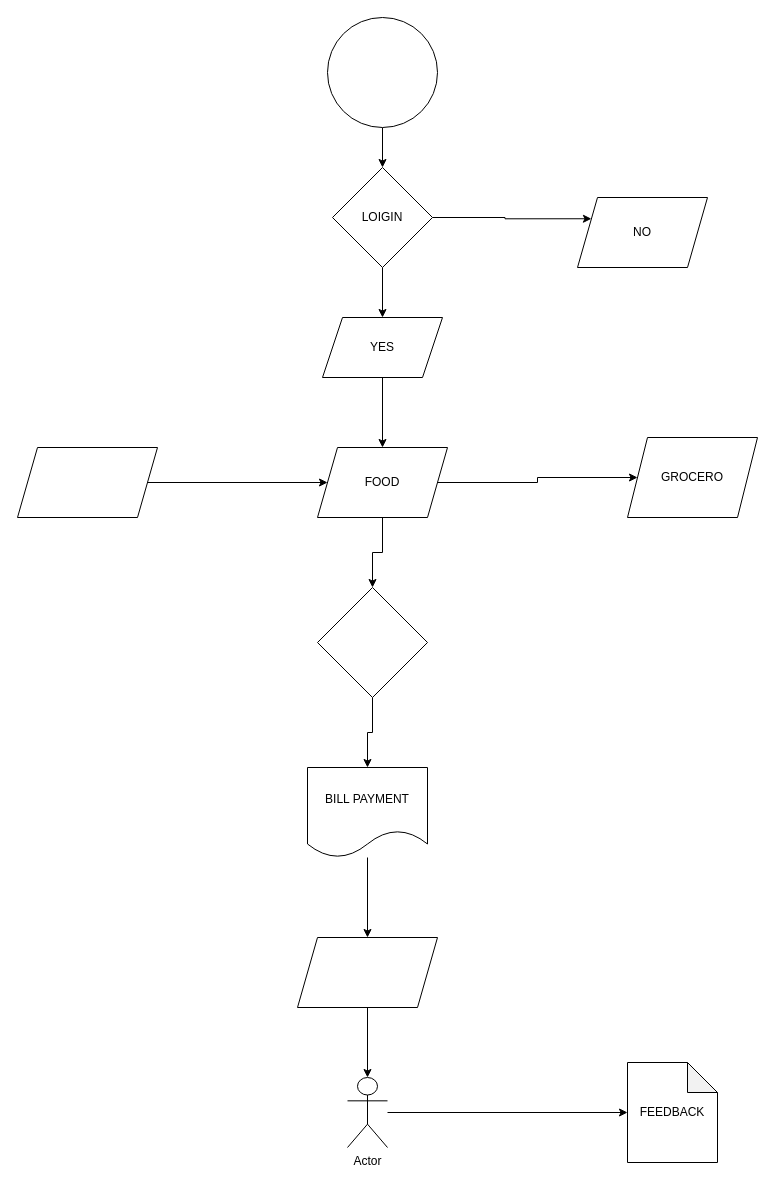
This 775x1186 diagram has some shape labels left out. The shapes that lost their labels are listed below. From the top down, each one's box as (x1, y1, x2, y2) in pixels, then its label:
(326, 16, 438, 128): START
(16, 446, 158, 518): RESTURENT
(316, 586, 428, 698): CONFORM ORDER
(296, 936, 438, 1008): ADDRESS
